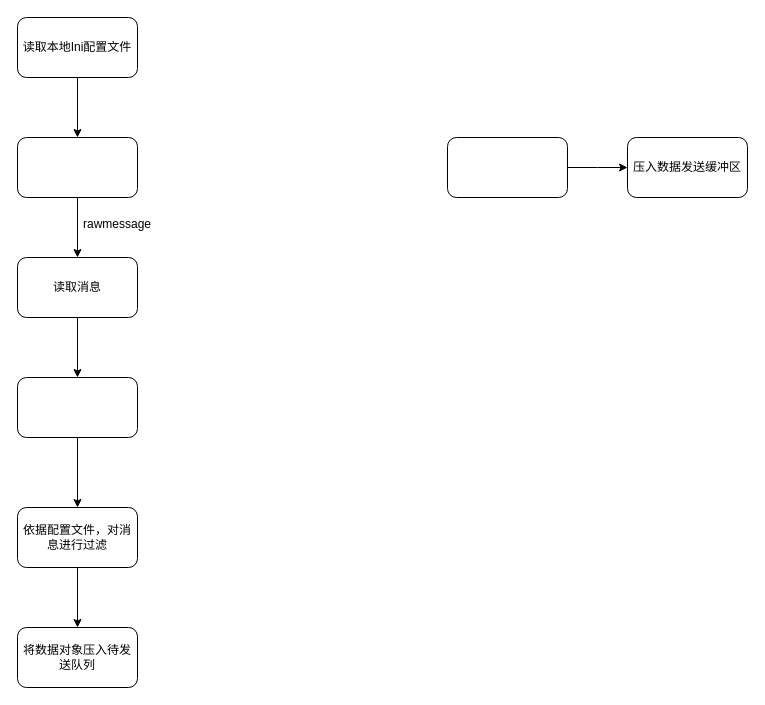
Image size: 765x705. Some labels were removed from this diagram. The centre of each missing label's shape, as x and y in pixels:
"依据云端需要的数据，将protobuf其他数据去除掉" belongs at [507,167].
"依据消息topic，获取数据类型，将rawmessage转换为该数据类型的对象" belongs at [77,407].
"依据节信息(topic) 创建Reader节点" belongs at [77,167].
